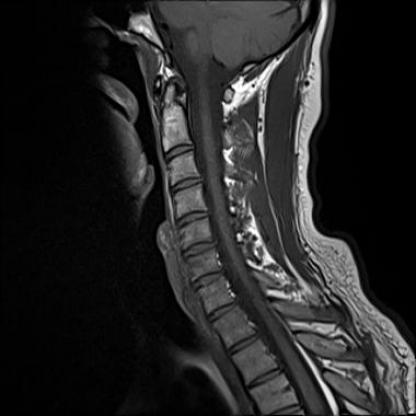Degenerative Disc Diseaserotation: (180, 242, 217, 257)
Disc Bulgerotation: (180, 242, 217, 257)
